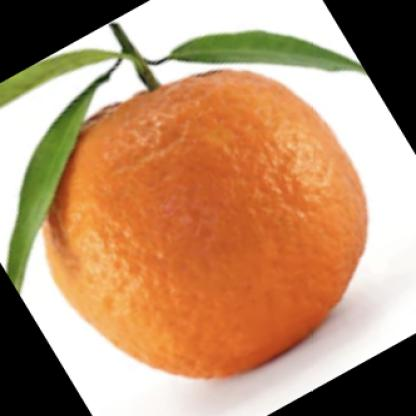fresh: (38, 59, 366, 380)
